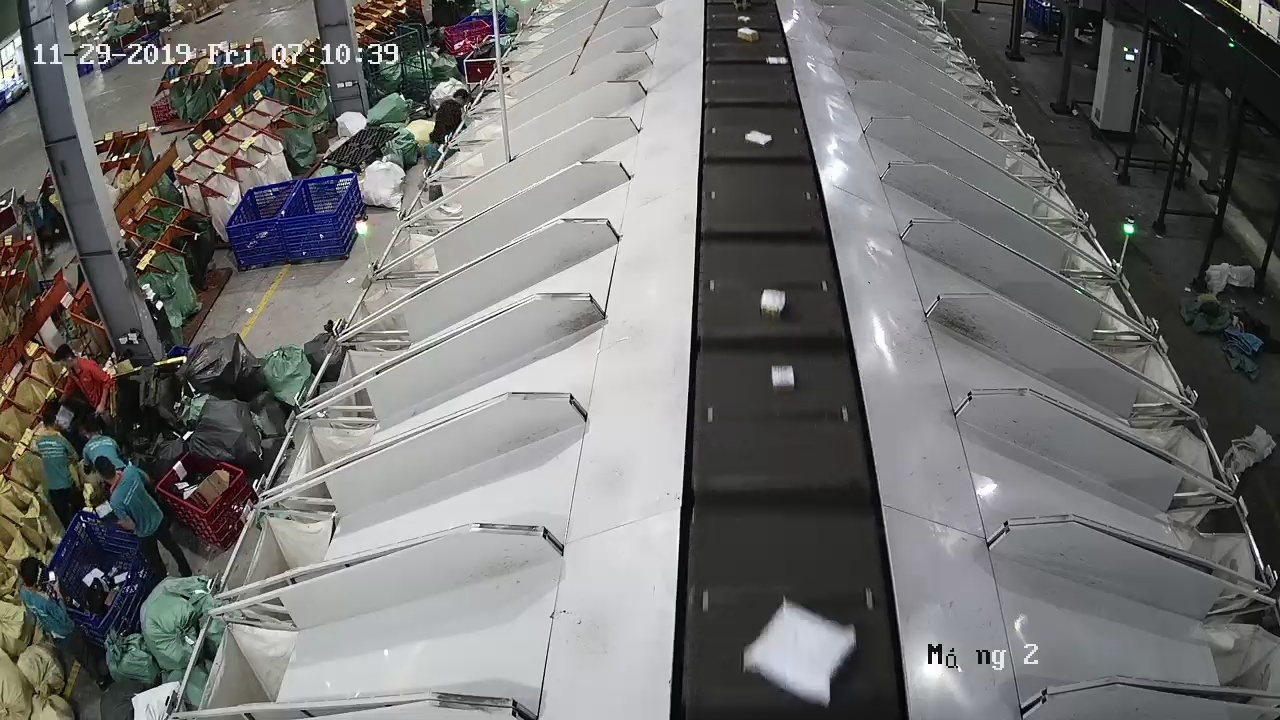parcel: (742, 598, 856, 708), (760, 288, 786, 319), (771, 364, 795, 393), (744, 129, 773, 148)
